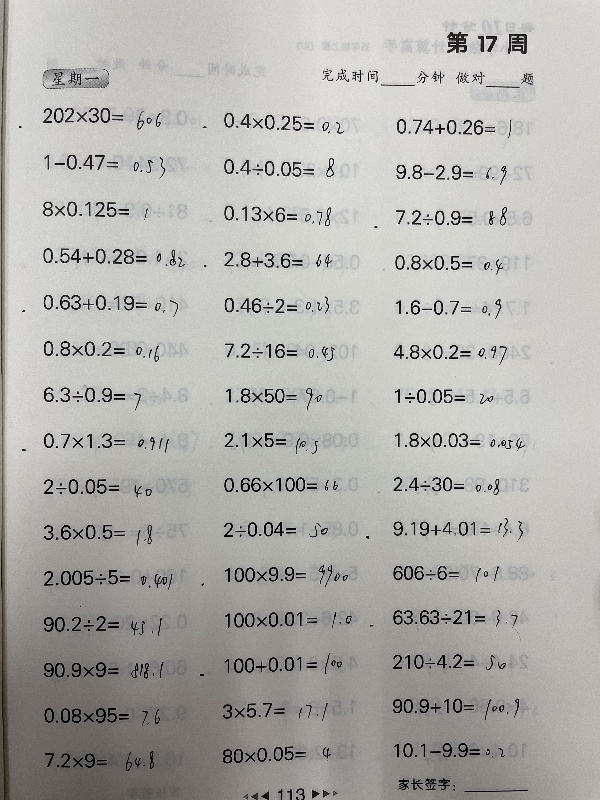equation: (38, 243, 188, 276), (388, 509, 526, 542), (42, 562, 174, 596), (36, 607, 168, 641), (35, 649, 167, 683), (39, 699, 171, 733), (34, 744, 166, 778), (219, 559, 351, 593), (221, 604, 353, 638), (219, 648, 351, 682), (41, 148, 168, 182), (37, 517, 164, 551), (214, 695, 334, 729), (218, 740, 338, 774), (389, 735, 513, 767), (388, 601, 520, 631), (386, 645, 518, 675), (388, 690, 520, 720), (38, 289, 181, 316), (389, 427, 527, 452), (40, 474, 158, 503), (38, 102, 164, 129), (219, 153, 338, 181), (38, 428, 171, 453), (388, 339, 510, 366), (222, 383, 326, 414), (218, 109, 346, 134), (391, 114, 514, 140), (391, 159, 509, 186), (220, 428, 337, 455), (218, 201, 334, 228), (38, 336, 163, 361), (219, 515, 334, 542), (392, 295, 505, 322), (218, 472, 345, 496), (38, 380, 143, 409), (391, 205, 511, 230), (391, 472, 506, 498), (37, 195, 150, 221), (389, 250, 505, 275), (387, 561, 501, 586), (220, 292, 333, 317), (220, 338, 337, 362), (219, 247, 334, 270), (390, 383, 496, 407)
